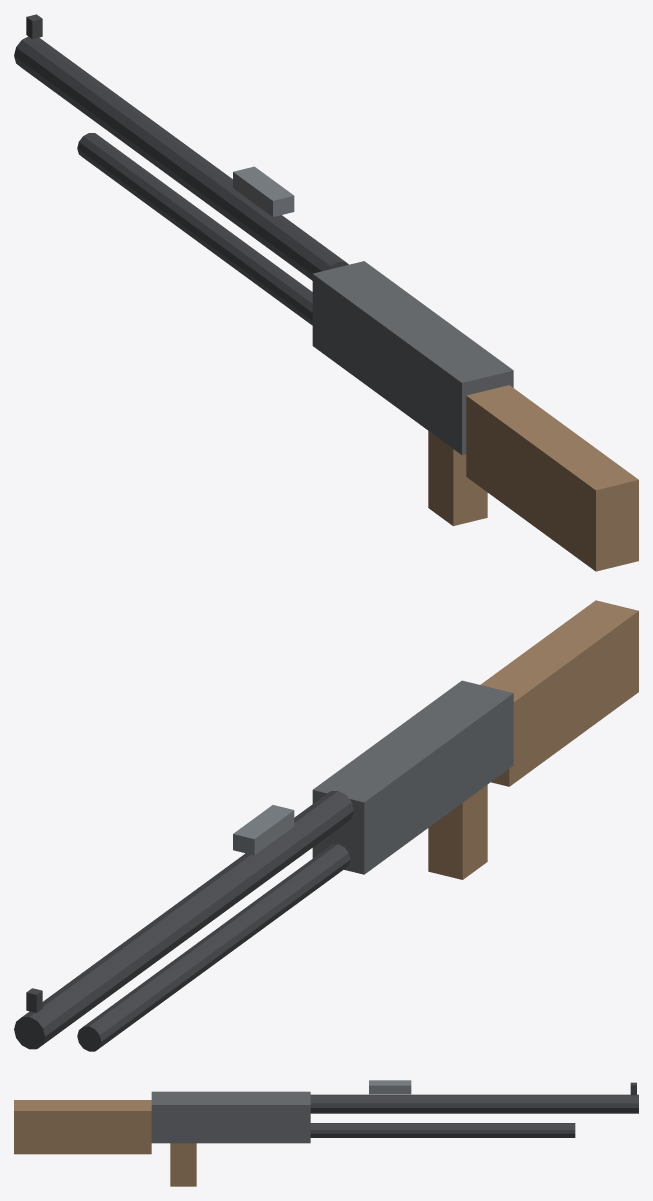
The model's file is escopeta_tactica.glb.
3 renders of one model, top to bottom at view 1: azimuth 30°, elevation 25°; view 2: azimuth 150°, elevation 25°; view 3: azimuth 270°, elevation 25°, orthographic. The views are drawn at different scales.
Visible parts, largest first — view 1: escopeta_tactica; view 2: escopeta_tactica; view 3: escopeta_tactica.
Boxes of the visible parts, left/top/right/bottom form: escopeta_tactica: left=14, top=14, right=638, bottom=571; escopeta_tactica: left=14, top=600, right=638, bottom=1051; escopeta_tactica: left=14, top=1080, right=638, bottom=1186.
Bounding box in the file's own units: 0.06 × 0.207 × 1.18.
